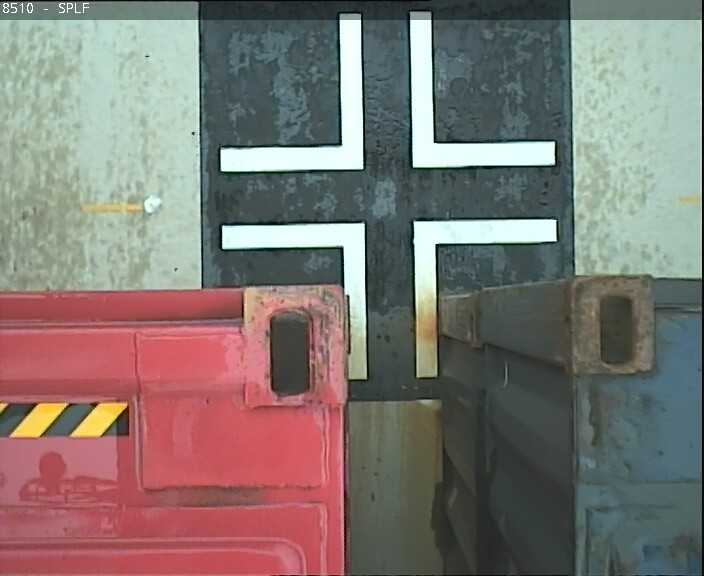groundmarker_1: (219, 217, 559, 377), (217, 14, 556, 174)
